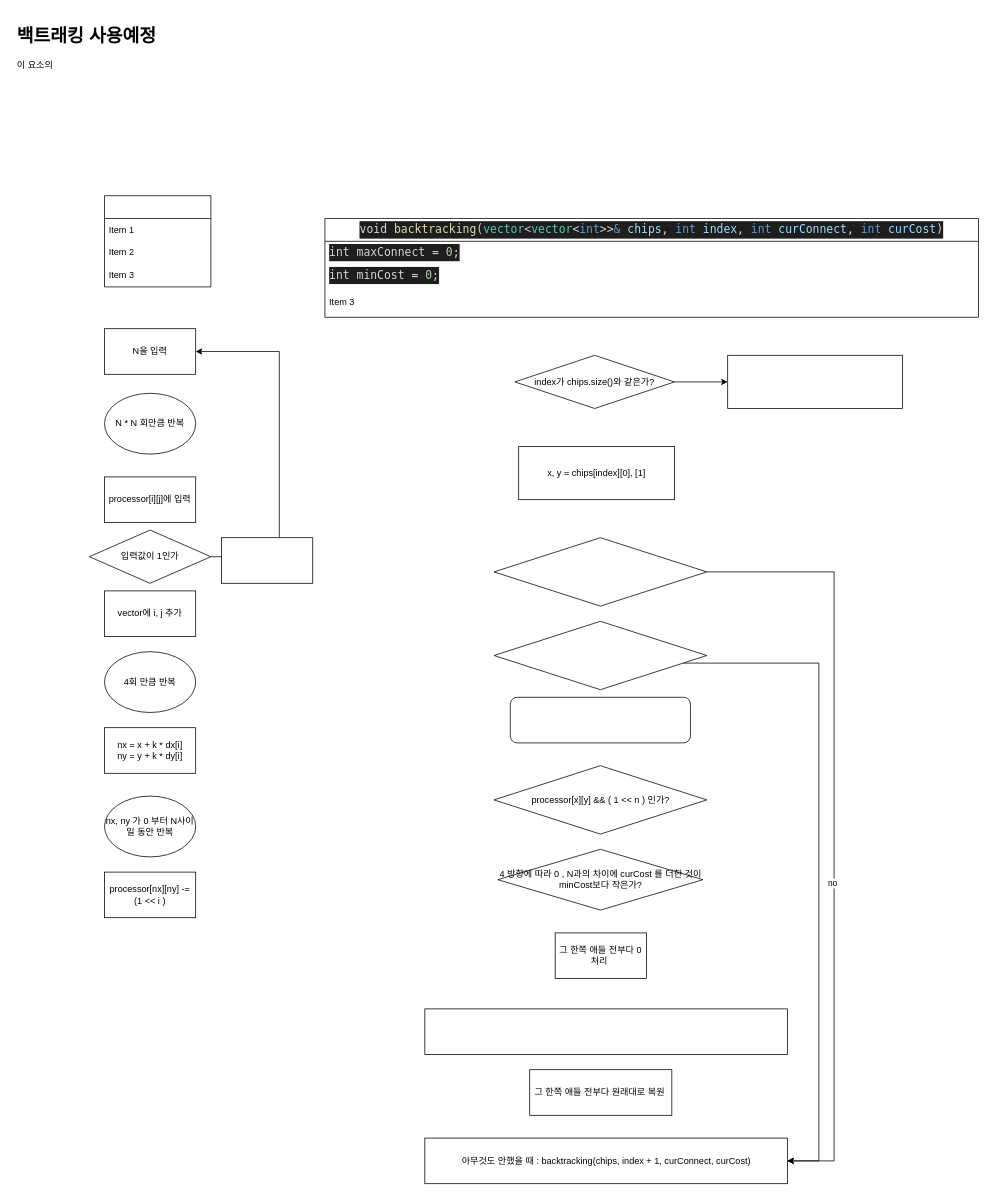
The diagram is 992 pixels wide and 1197 high, and some of its shapes have lost their labels. The box of each missing label's shape, as (x1, y1, x2, y2) in pixels:
4번 반복: (510, 697, 690, 743)
backtracking(chips, index + 1, curConnect + 1 , curCost + cost): (424, 1008, 787, 1054)
int main (): (104, 195, 211, 287)
minCost = curCost maxConnect = curConnect: (727, 355, 902, 408)
processor[x][y] != 0 인가?: (493, 537, 707, 606)
돌아감: (221, 537, 313, 583)
지금부터 나머지 다 연결된 게 maxConnect보다 큰가?: (493, 621, 707, 690)
